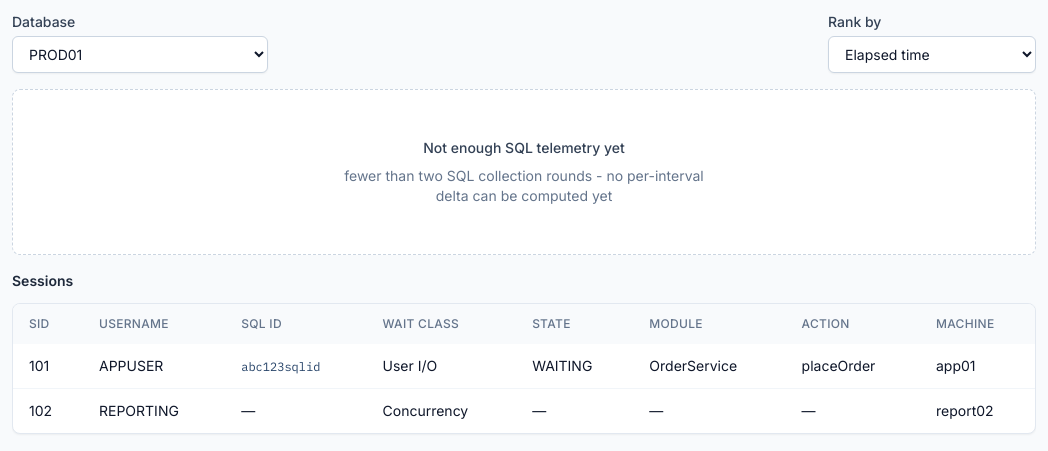
Test case: SqlIntelligencePage › filters the Sessions panel to a chip after clicking a wait-class value
Expected: the text "APPUSER" is shown, x1=83 y1=344 x2=225 y2=388
Click the button "User I/O": (410, 366) x1=378 y1=356 x2=441 y2=376
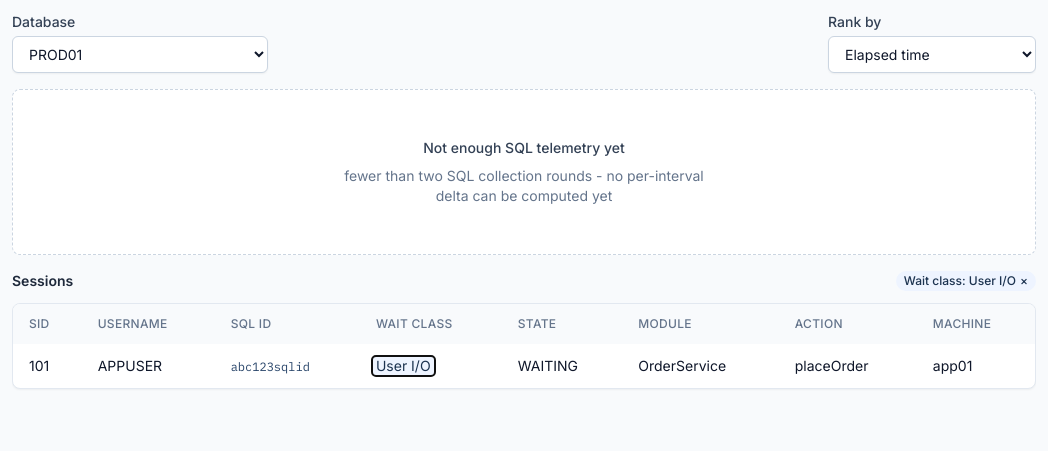
Expected: the text "APPUSER" is shown, x1=82 y1=344 x2=215 y2=388
Now the button "Wait class: User I/O ×" is shown, box x1=896 y1=271 x2=1036 y2=291
Now the text "REPORTING" is gone
